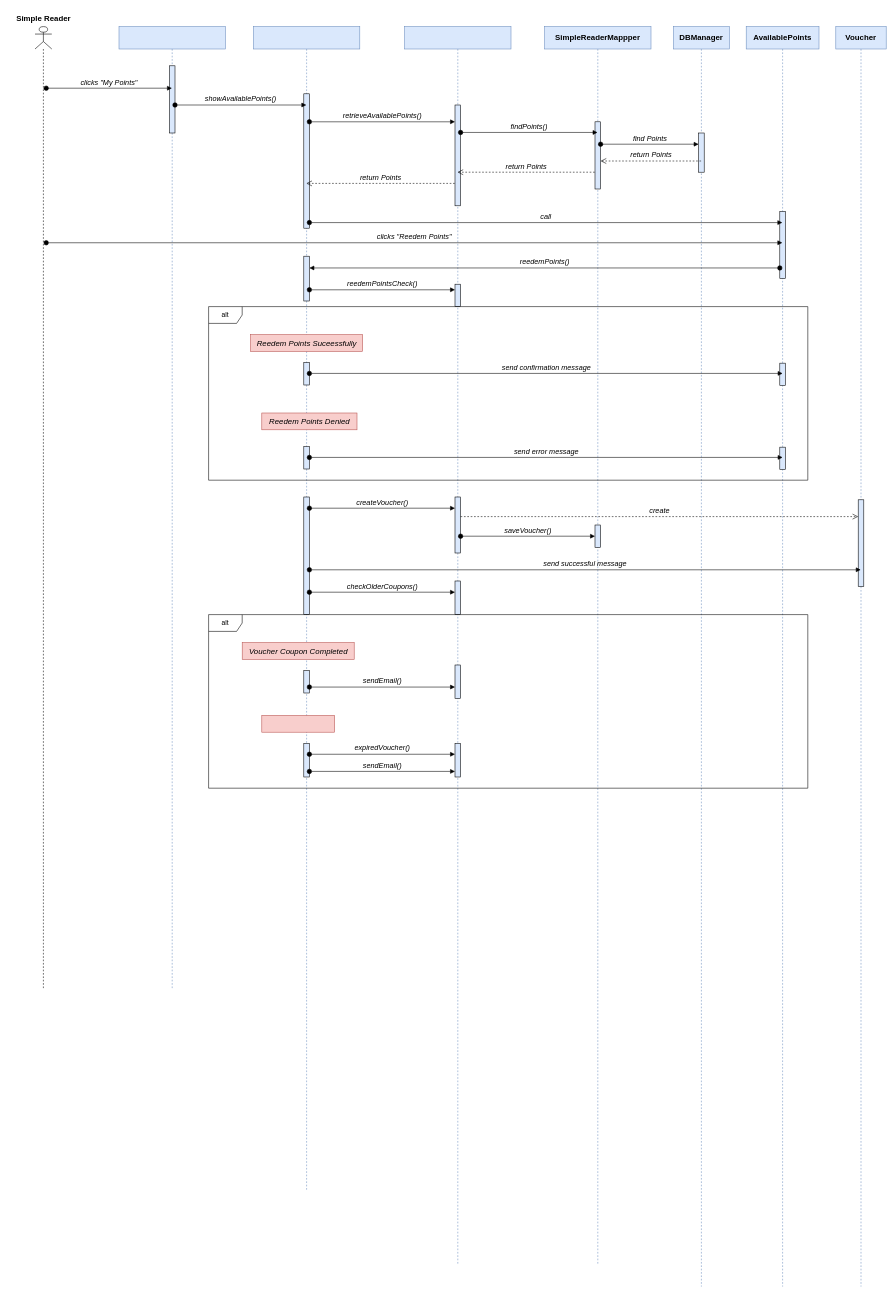
This 896x1296 diagram has some shape labels left out. The shapes that lost their labels are listed below. From the top down, each one's box as (x1, y1, x2, y2) in pixels, then its label:
(118, 26, 225, 990): SimpleReaderHomepage
(253, 26, 360, 1191): SimpleReaderController
(404, 26, 511, 1264): SimpleReaderService
(261, 715, 335, 732): Εxpired Voucher
